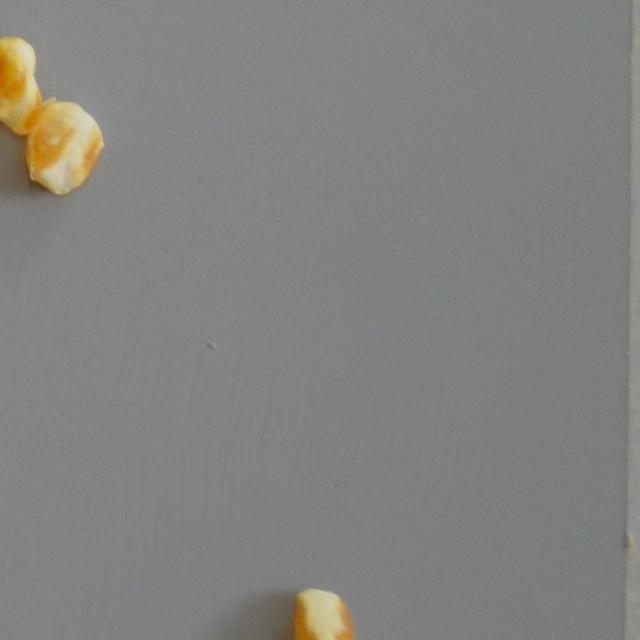pelicula: (24, 100, 104, 196), (0, 34, 42, 136), (289, 586, 365, 640)
